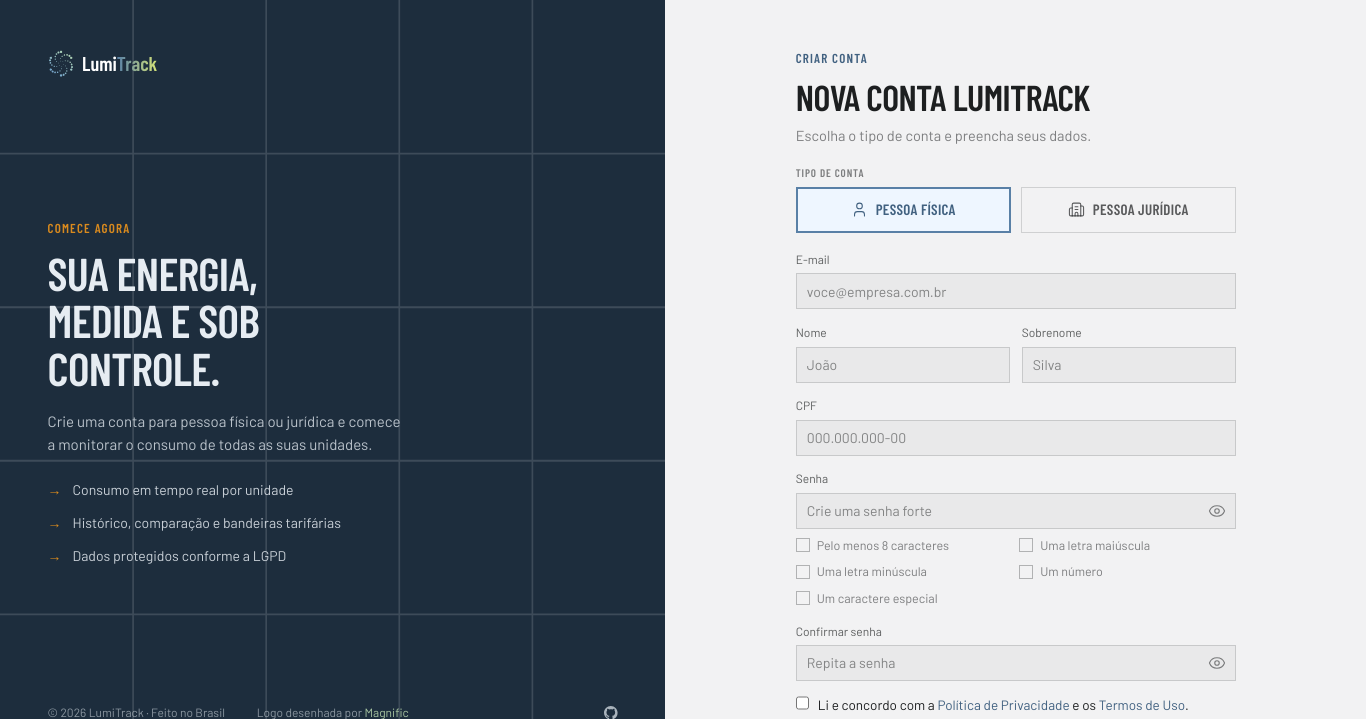
Test: RegisterPage — toggle PF/PJ › alterna para PJ e mostra campos da empresa
What coordinates should you click on to do the following:
click the button labelled "Pessoa Jurídica"
I would click on:
 (1128, 210)
Its box is [1021,187,1236,233].
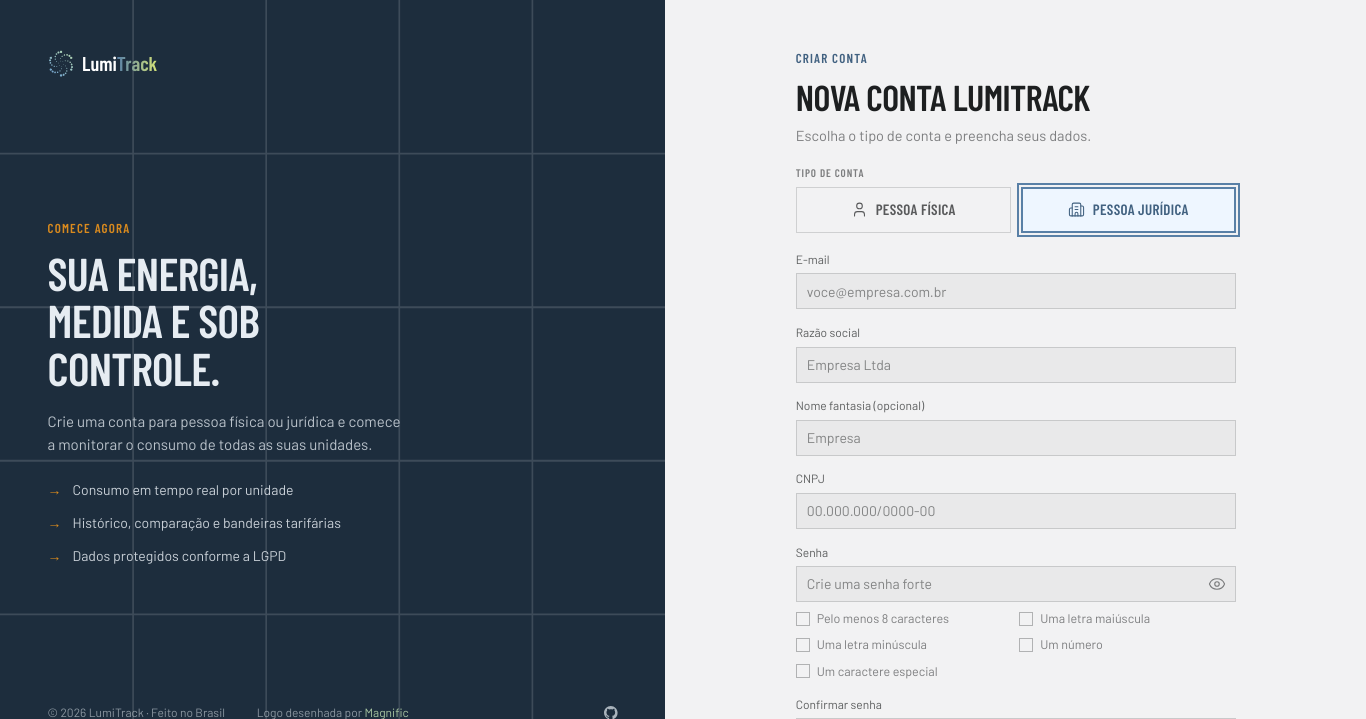
Now the field labelled "Razão social" is shown, box [796,347,1236,383]
Now the field labelled "CNPJ" is shown, box [796,493,1236,529]
Now the label labelled "CPF" is gone
